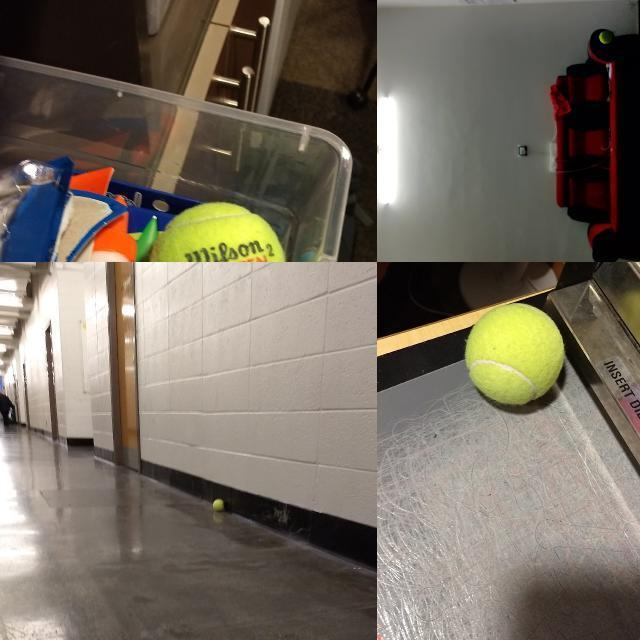tennis-ball: (465, 302, 565, 406), (148, 200, 288, 261), (598, 31, 612, 44), (213, 498, 224, 511)
